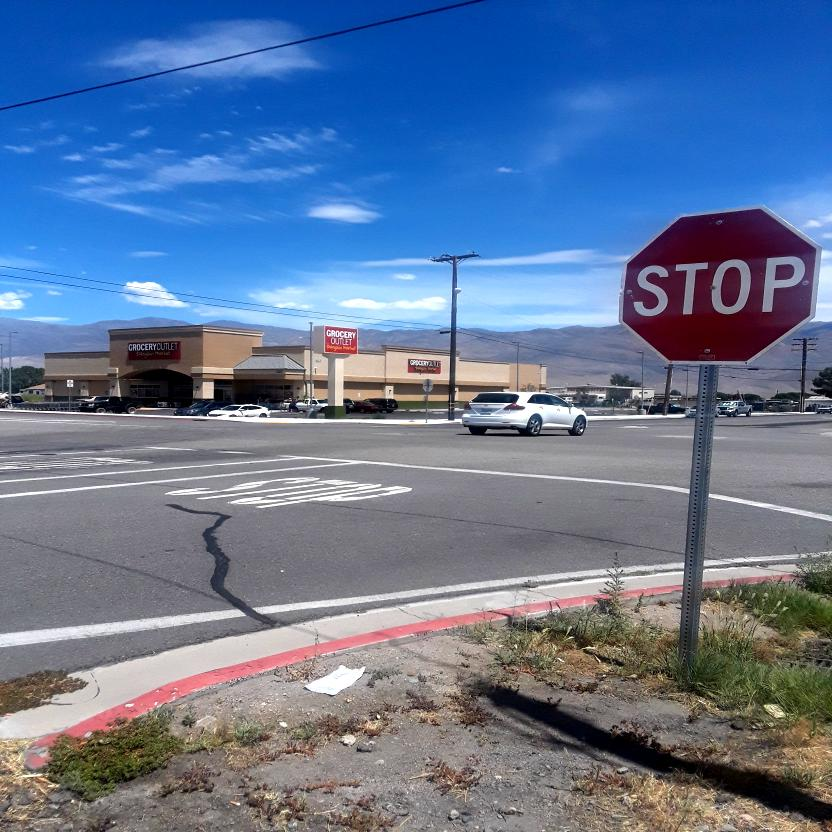Pole: (677, 366, 720, 682)
Sign: (621, 209, 822, 358)
